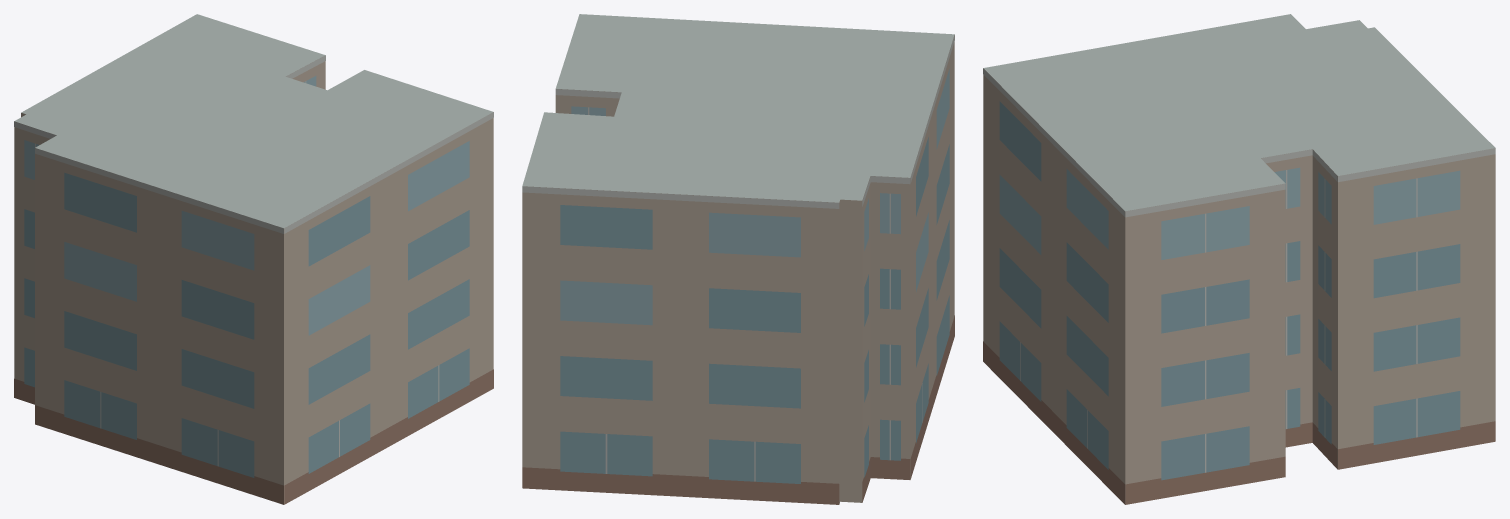
Rendered from survey-upis-32737761.glb.
3 views of the same model, side by side, from view 1: azimuth 30°, elevation 25°; view 2: azimuth 150°, elevation 25°; view 3: azimuth 270°, elevation 25° (orthographic). The views are drawn at different scales.
Parts seen in each view (by area): view 1: survey-upis-32737761.tmp; view 2: survey-upis-32737761.tmp; view 3: survey-upis-32737761.tmp.
Part boxes in pixels (bbox=[...]): survey-upis-32737761.tmp: bbox=[14, 14, 493, 504]; survey-upis-32737761.tmp: bbox=[522, 14, 954, 504]; survey-upis-32737761.tmp: bbox=[983, 14, 1495, 504].
Size of the model in its own units: 16.87 by 11.7 by 18.52.
